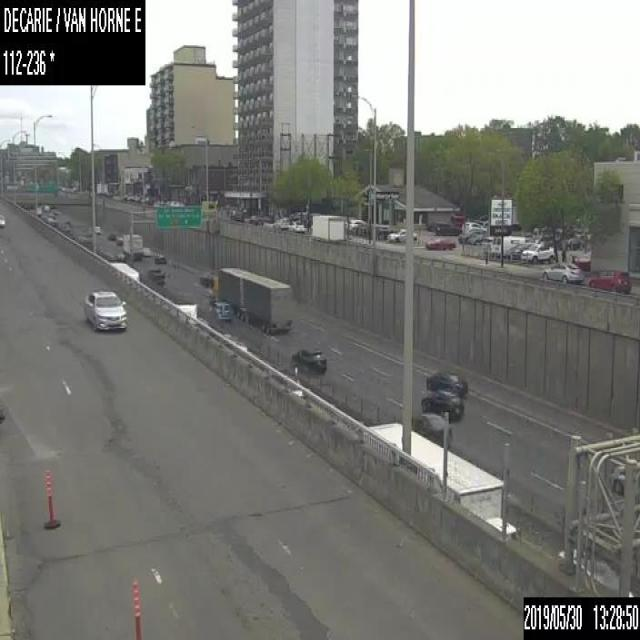construction: (43, 469, 59, 528), (131, 574, 142, 638)
vehicle: (366, 418, 516, 540), (212, 266, 291, 334), (84, 288, 126, 331), (420, 388, 464, 422), (411, 412, 452, 446), (425, 370, 466, 396), (310, 212, 344, 242), (588, 268, 630, 292), (541, 258, 583, 282), (290, 347, 326, 372), (612, 464, 639, 496), (520, 242, 554, 262), (493, 235, 527, 255), (109, 261, 138, 282), (122, 232, 143, 260), (209, 301, 232, 322), (387, 227, 416, 242), (173, 302, 196, 320), (425, 237, 455, 250), (457, 228, 484, 242), (433, 220, 459, 234), (508, 242, 532, 257), (200, 199, 218, 215), (345, 218, 364, 232), (148, 266, 164, 282), (374, 224, 392, 238), (482, 236, 495, 254), (271, 217, 289, 228), (286, 220, 304, 231), (198, 270, 212, 284), (247, 213, 262, 224), (462, 221, 479, 230), (231, 210, 244, 221), (96, 182, 108, 193), (153, 254, 166, 263), (142, 246, 152, 256), (46, 216, 56, 225), (0, 212, 5, 228), (107, 231, 115, 240), (93, 224, 101, 233), (116, 235, 122, 244)
